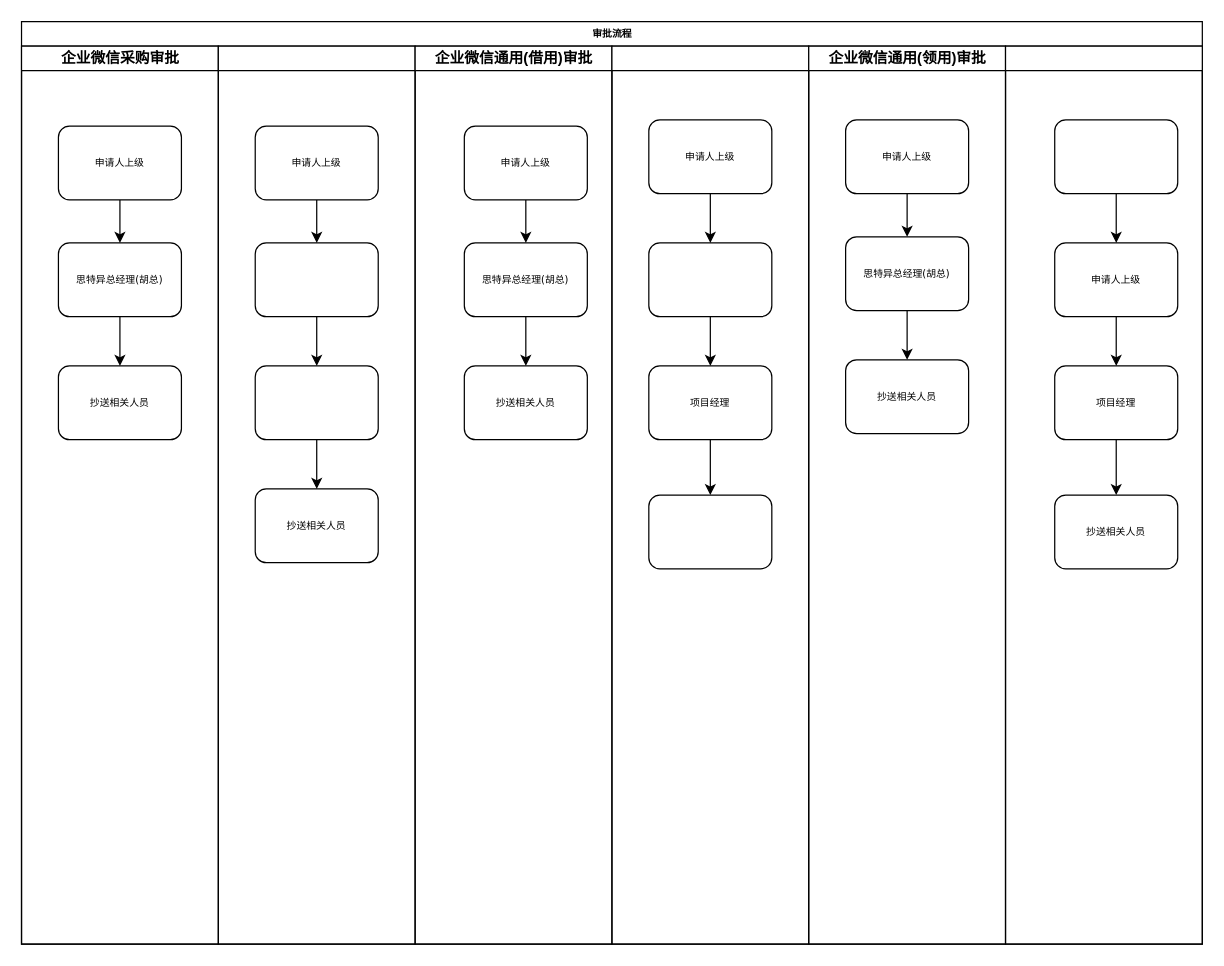
Some shapes in this 1224 by 966 pixel diagram are drawn without their labels. The shapes that lost their labels are listed below. From the top down, each one's box as (x1, y1, x2, y2) in pixels, then its label:
(1053, 119, 1178, 194): 负责统计领用专员(综管部)
(254, 242, 378, 317): 采购经理
(648, 242, 772, 317): 负责统计借用专员(综管部)
(254, 365, 378, 440): 曾总
(217, 45, 415, 944): 钉钉采购审批
(611, 45, 809, 944): 钉钉借用审批
(1004, 45, 1202, 944): 钉钉领用审批
(648, 494, 772, 569): 抄送相关人员(销售)
